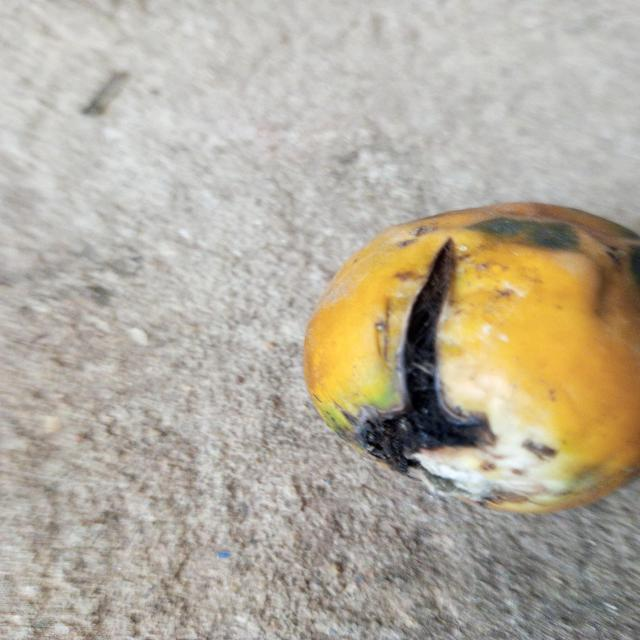damaged: (304, 203, 640, 513)
